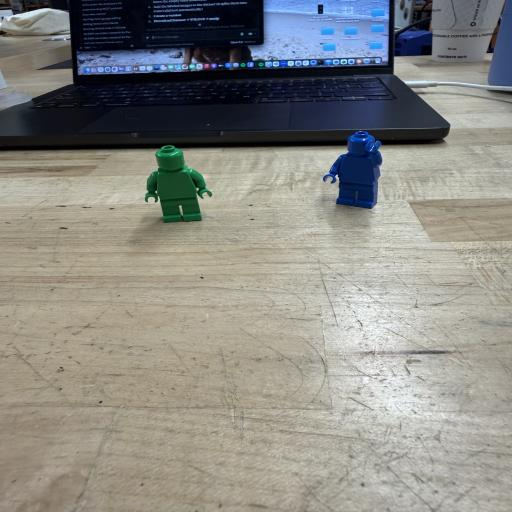blue-minifig: (330, 132, 382, 208)
green-minifig: (145, 146, 212, 222)
